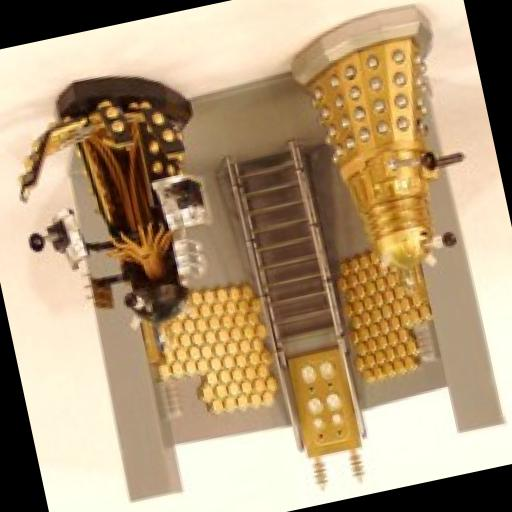dalek: (0, 53, 253, 380), (286, 0, 481, 303)
